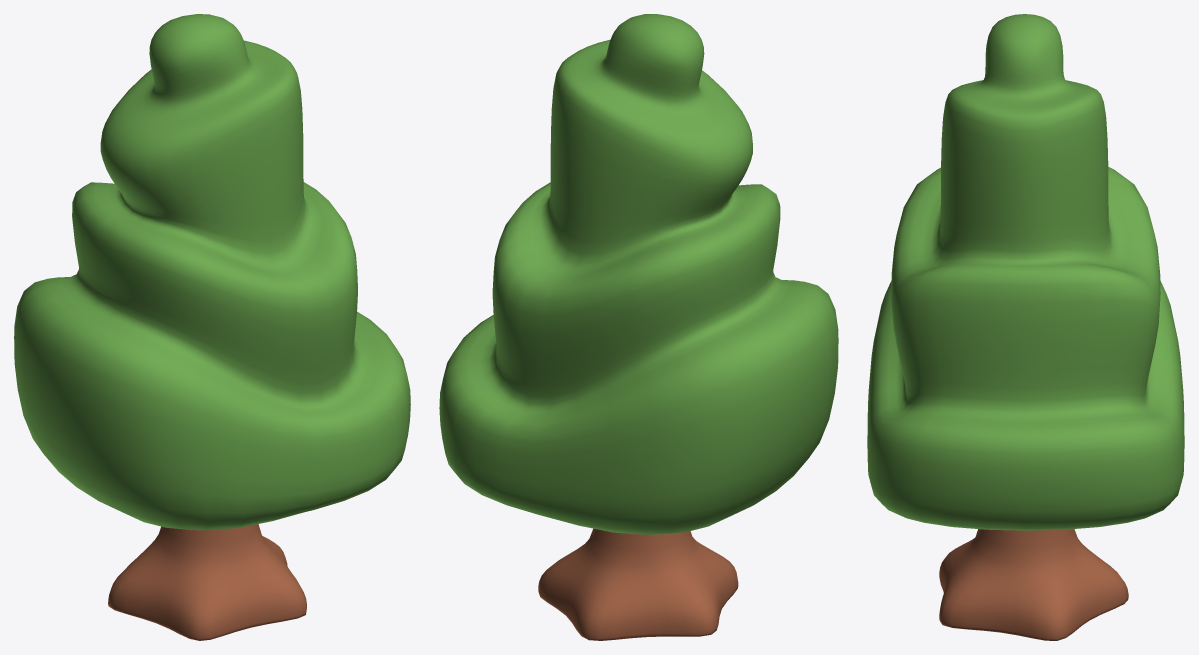
File: tree8.fbx
3 renders of one model, left to right at view 1: azimuth 30°, elevation 25°; view 2: azimuth 150°, elevation 25°; view 3: azimuth 270°, elevation 25°, orthographic. The views are drawn at different scales.
Visible parts, largest first — view 1: tree8; view 2: tree8; view 3: tree8.
Boxes of the visible parts, x1,y1,x2,y2 form: tree8: (14, 14, 410, 640); tree8: (439, 14, 838, 640); tree8: (867, 14, 1184, 640).
Bounding box in the file's own units: 492 × 814 × 407.
